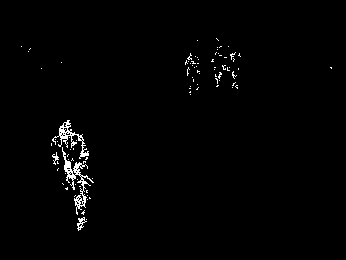person: (46, 119, 91, 233)
